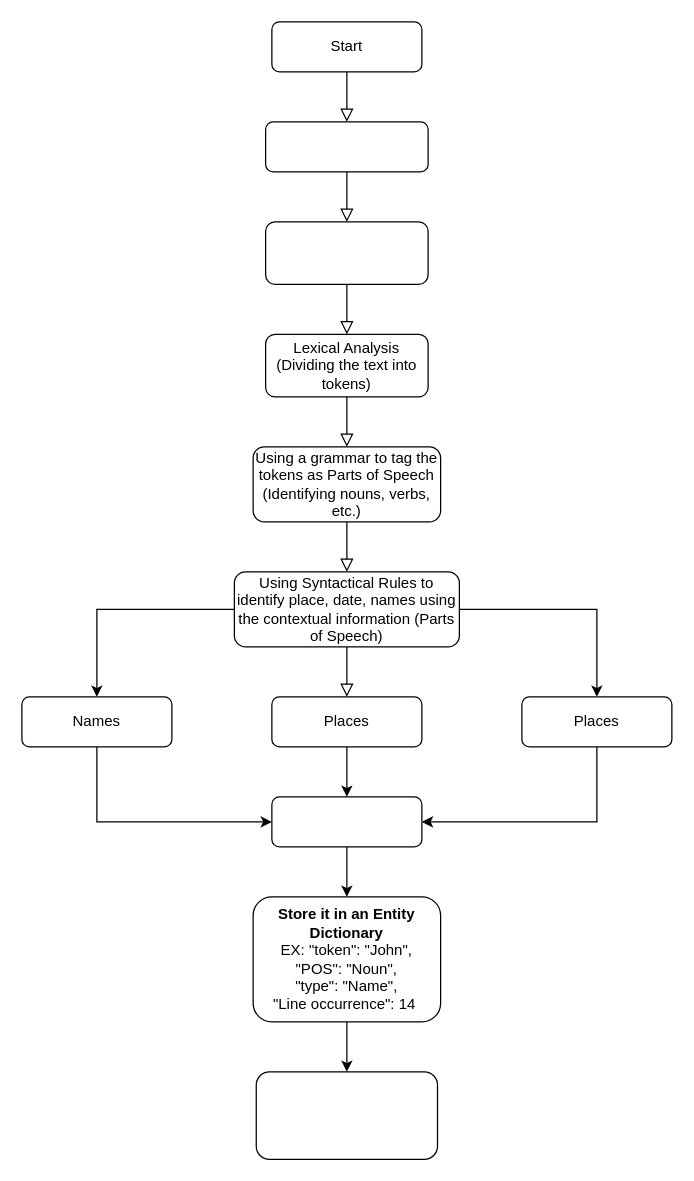
The diagram is 694 pixels wide and 1181 high, and some of its shapes have lost their labels. The shapes that lost their labels are listed below. From the top down, each one's centre as x and y in pixels, then its label:
At (346,146): "Text Input (Raw text file)".
At (346,252): "Preprocessing the text (Cleaning and normalizing the text)".
At (346,821): "Redundancy Check".
At (346,1115): "Output (Display the token type, and location of the name, place, dates obtained)".
